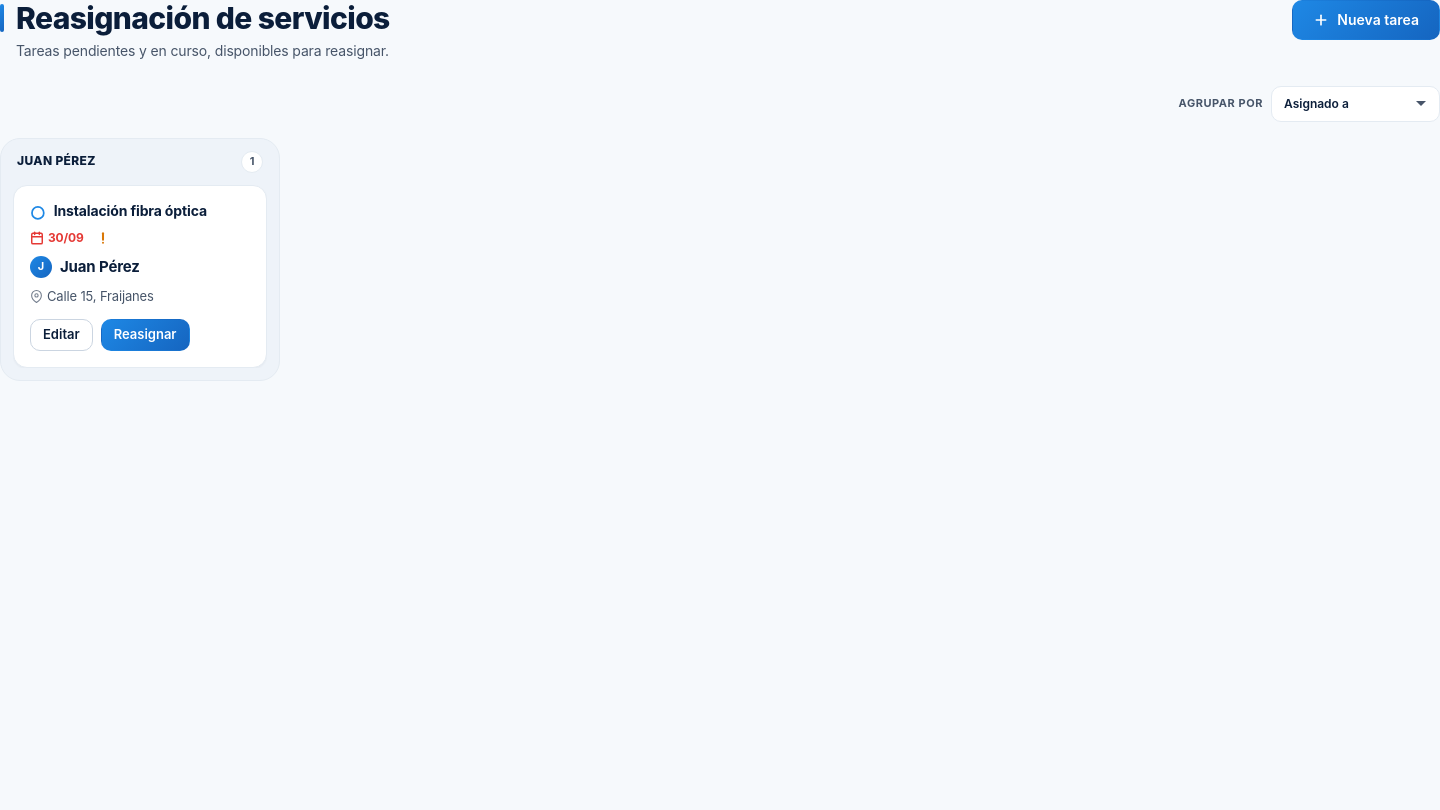
Test: ReasignacionPage — cambio de técnico › avisa cuando no hay ningún otro técnico con hueco
This screenshot has width=1440, height=810.
Step 1. Click the button "Reasignar" → point(145, 335), box [101,319,190,351]
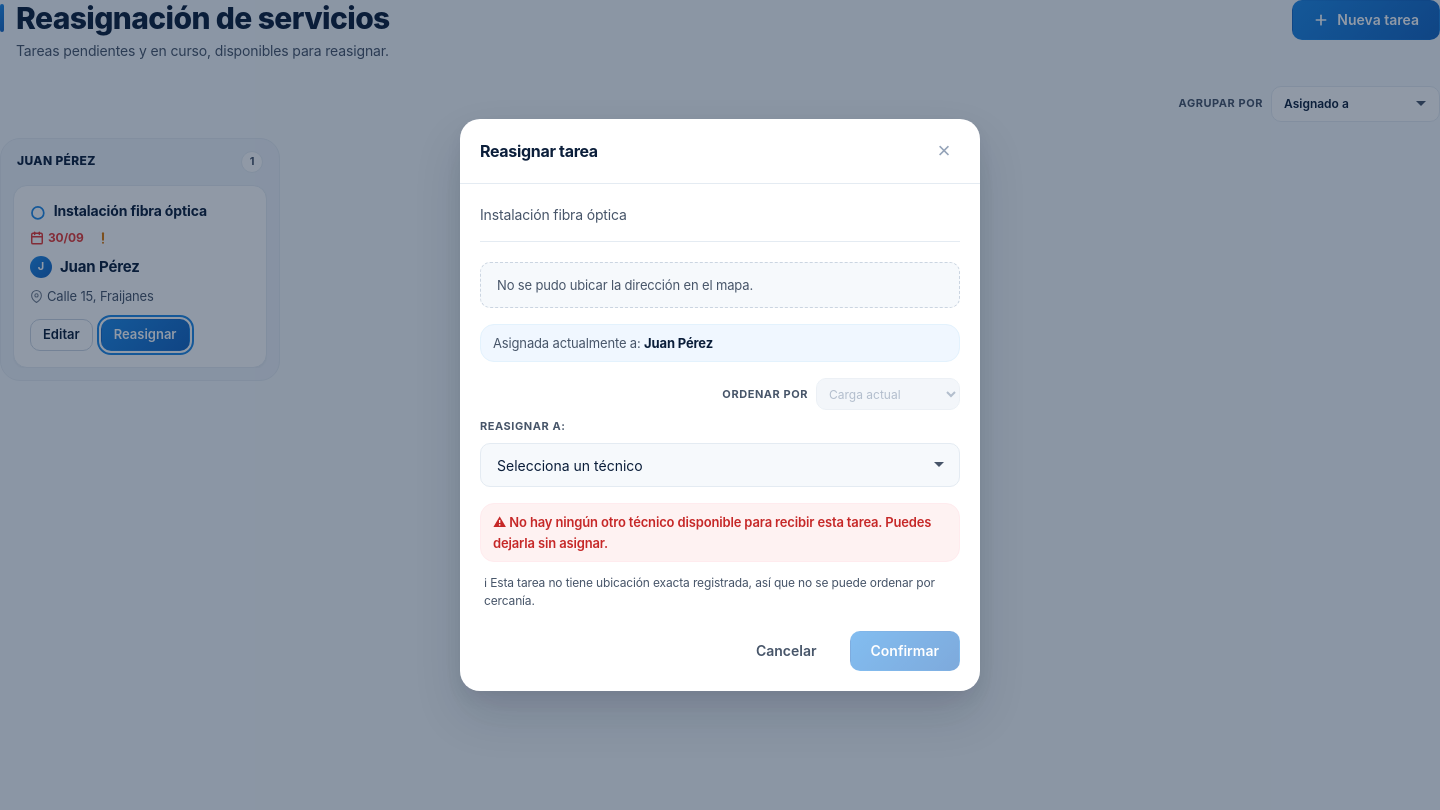
Result: the dropdown labelled "Reasignar a:" is shown at [480,443,960,487]
Result: the text "No hay ningún otro técnico disponible" shows "Puedes dejarla sin asignar" at [493,514,931,550]
